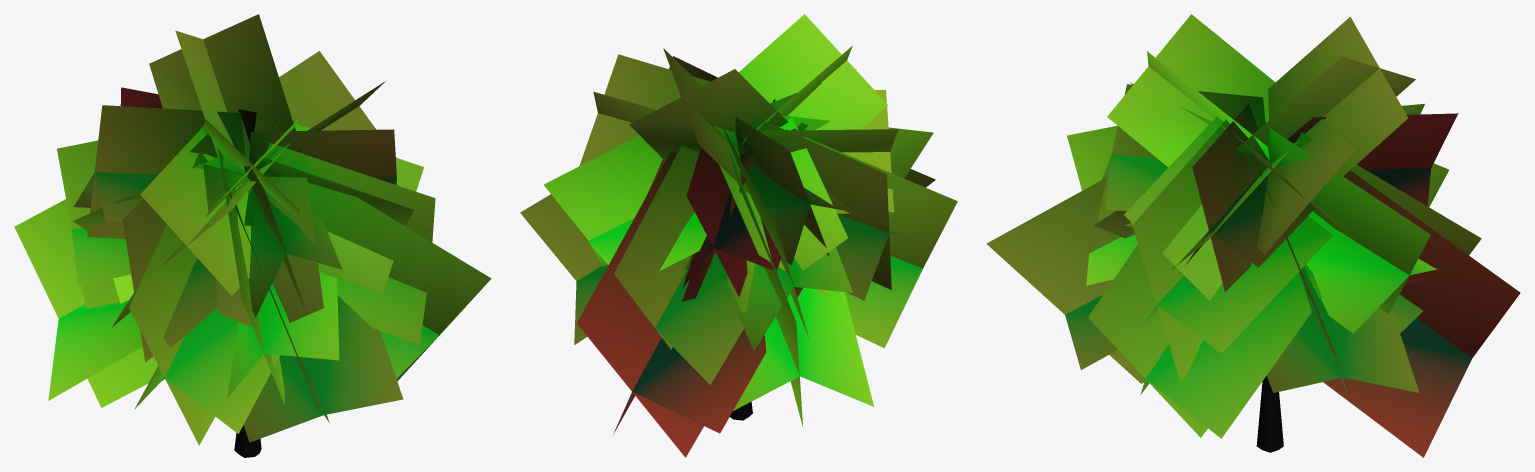
The model's file is Super_11_8.fbx.
3 renders of one model, left to right at view 1: azimuth 30°, elevation 25°; view 2: azimuth 150°, elevation 25°; view 3: azimuth 270°, elevation 25°, orthographic. The views are drawn at different scales.
Visible parts, largest first — view 1: Super_11_8; view 2: Super_11_8; view 3: Super_11_8.
Boxes of the visible parts, x1,y1,x2,y2 form: Super_11_8: (14, 14, 491, 457); Super_11_8: (520, 14, 957, 457); Super_11_8: (986, 14, 1520, 457).
Bounding box in the file's own units: 1470 × 1507 × 1769.
